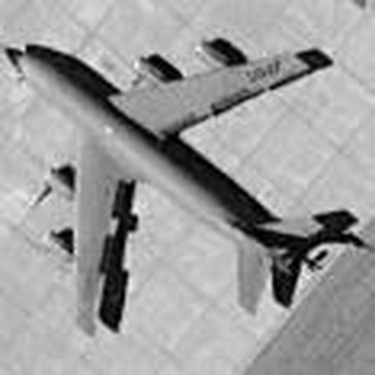airplane: (3, 31, 354, 344)
